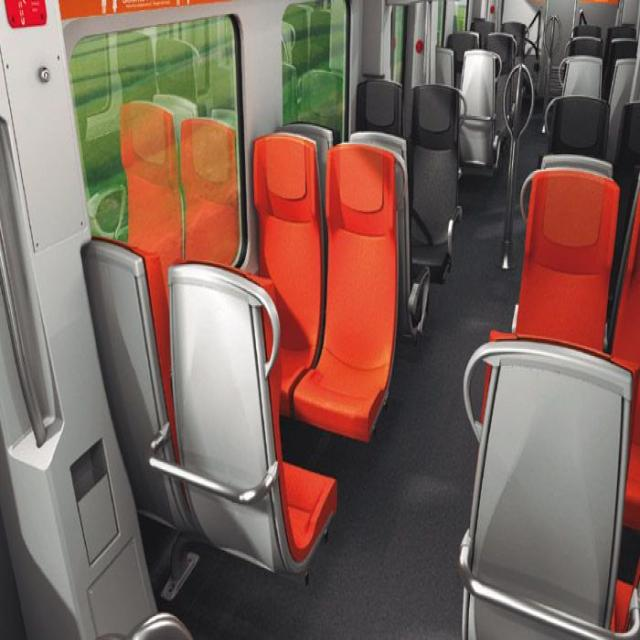seient: (294, 143, 396, 441), (254, 133, 324, 414), (512, 168, 619, 351), (409, 85, 466, 282), (357, 79, 402, 134)
